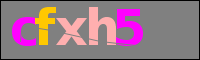5: (115, 8, 145, 47)
c: (10, 15, 37, 50)
f: (34, 5, 57, 49)
h: (87, 5, 117, 50)
x: (55, 16, 88, 48)
